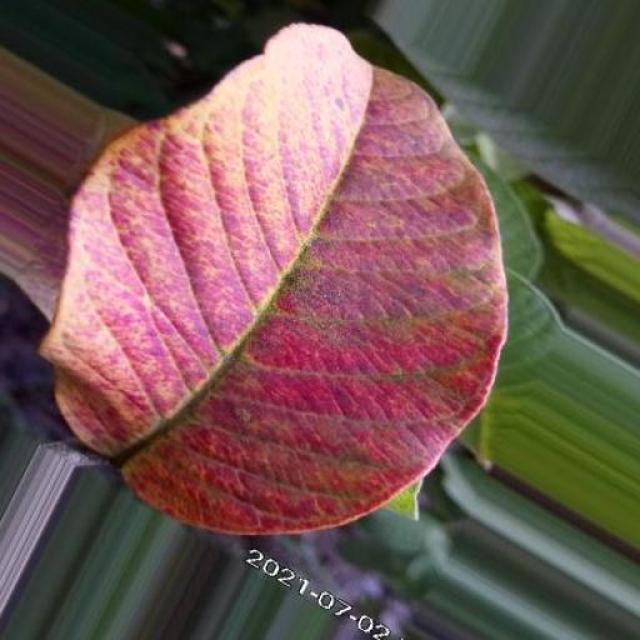Rust: (42, 25, 506, 533)
